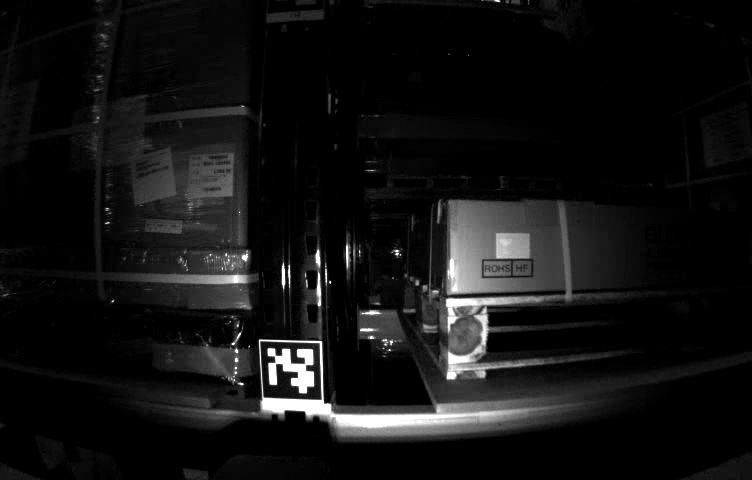True Barcode: (185, 153, 236, 197)
